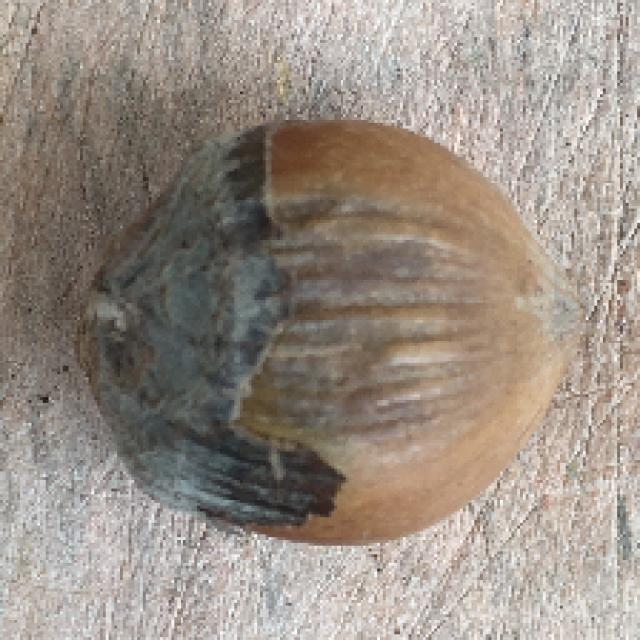damagedHazelnut: (70, 108, 568, 554)
